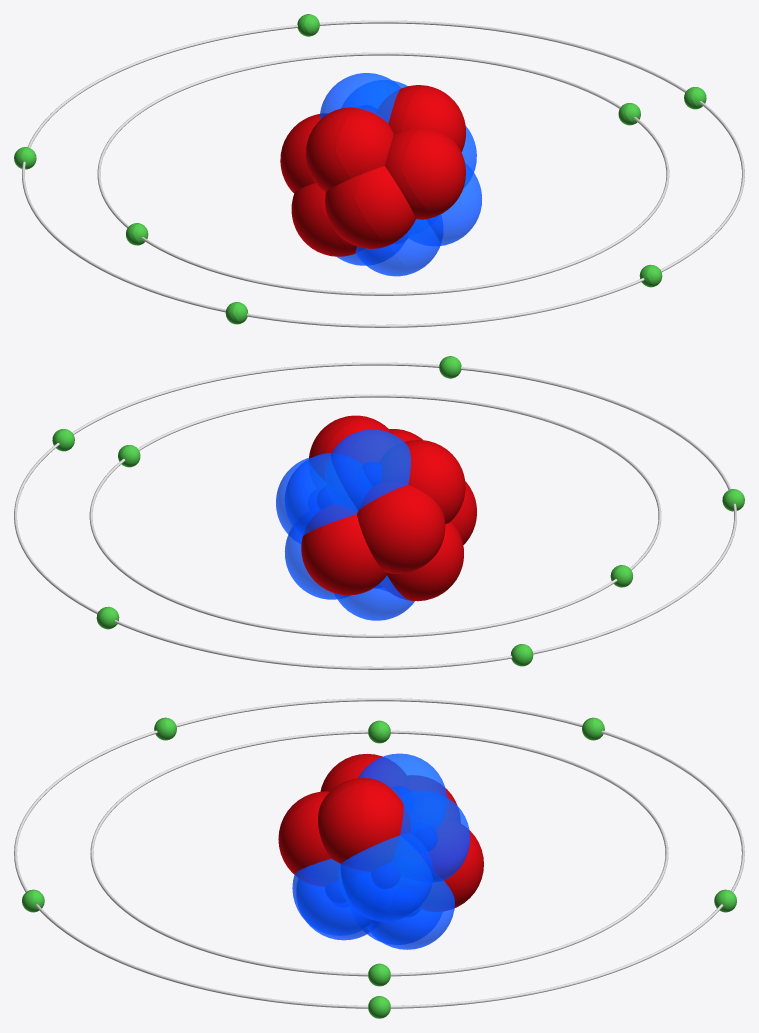
Rendered from element_007_nitrogen.glb.
3 renders of one model, top to bottom at view 1: azimuth 30°, elevation 25°; view 2: azimuth 150°, elevation 25°; view 3: azimuth 270°, elevation 25°, orthographic.
Parts seen in each view (by area): view 1: element_007_nitrogen_nucleus, nitrogen_orbital_1_6; view 2: element_007_nitrogen_nucleus, nitrogen_orbital_1_6; view 3: element_007_nitrogen_nucleus, nitrogen_orbital_1_6.
Part boxes in pixels (x1,y1,x2,y2): element_007_nitrogen_nucleus: [280, 73, 481, 276]; nitrogen_orbital_1_6: [14, 14, 744, 327]; element_007_nitrogen_nucleus: [276, 415, 476, 620]; nitrogen_orbital_1_6: [14, 356, 744, 669]; element_007_nitrogen_nucleus: [278, 753, 483, 949]; nitrogen_orbital_1_6: [14, 698, 744, 1018].
Size of what is drawn, in the model's own units: 0.6205 by 0.1704 by 0.6122.
